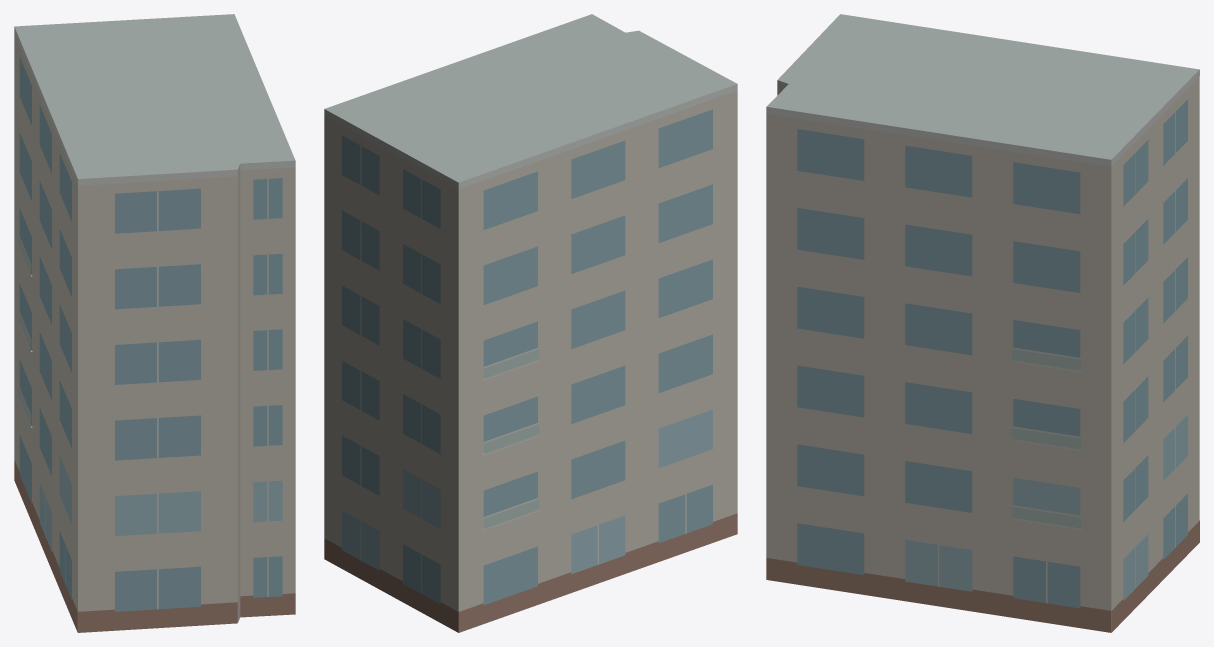
File: survey-upis-32852682.glb
The picture shows the model from 3 angles, left to right: view 1: azimuth 30°, elevation 25°; view 2: azimuth 150°, elevation 25°; view 3: azimuth 270°, elevation 25°; orthographic projection. The views are drawn at different scales.
Visible parts, largest first — view 1: survey-upis-32852682.tmp; view 2: survey-upis-32852682.tmp; view 3: survey-upis-32852682.tmp.
Boxes of the visible parts, left/top/right/bottom form: survey-upis-32852682.tmp: left=14, top=14, right=295, bottom=632; survey-upis-32852682.tmp: left=324, top=14, right=737, bottom=632; survey-upis-32852682.tmp: left=766, top=14, right=1199, bottom=632.
Bounding box in the file's own units: 10.92 × 16.5 × 13.71.
